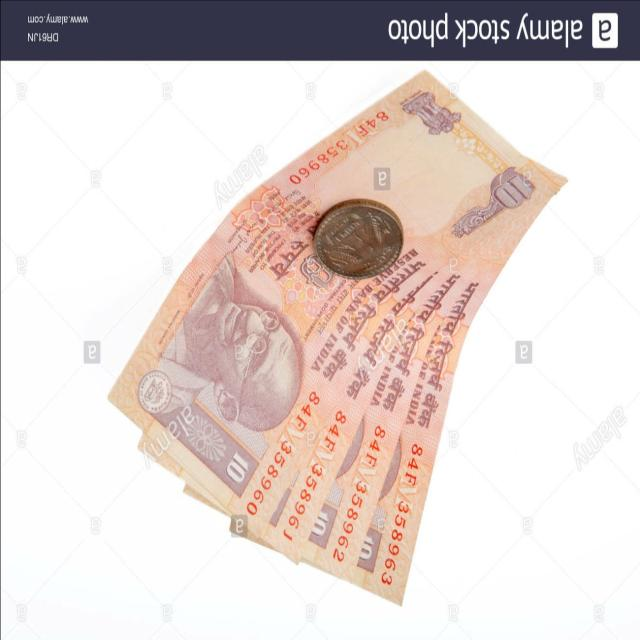10IndianRupees: (144, 91, 539, 515)
